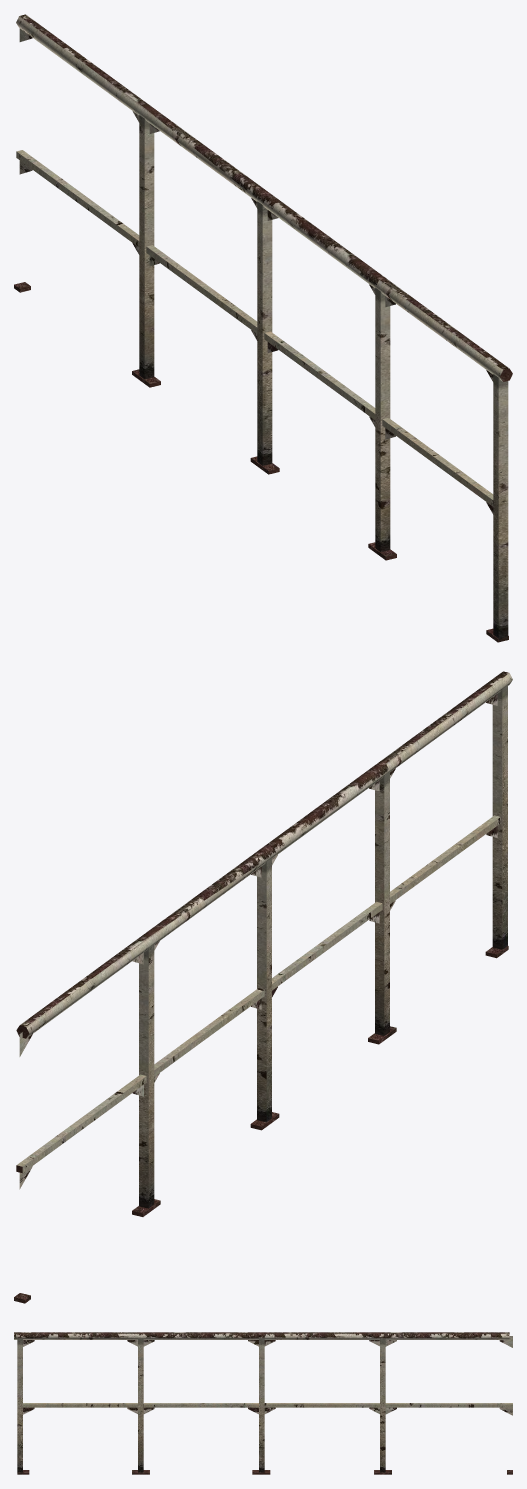
The model's file is handrail04_long.glb.
3 views of the same model, one above another, from view 1: azimuth 30°, elevation 25°; view 2: azimuth 150°, elevation 25°; view 3: azimuth 270°, elevation 25° (orthographic). The views are drawn at different scales.
Visible parts, largest first — view 1: 0_HandrailMetal001a; view 2: 0_HandrailMetal001a; view 3: 0_HandrailMetal001a.
Boxes of the visible parts, x1=… form: 0_HandrailMetal001a: x1=14, y1=14, x2=512, y2=642; 0_HandrailMetal001a: x1=14, y1=671, x2=512, y2=1303; 0_HandrailMetal001a: x1=14, y1=1332, x2=512, y2=1474.
Bounding box in the file's own units: 0.0508 × 1.02 × 3.27.
Materials: 1 (1 with a texture image).
